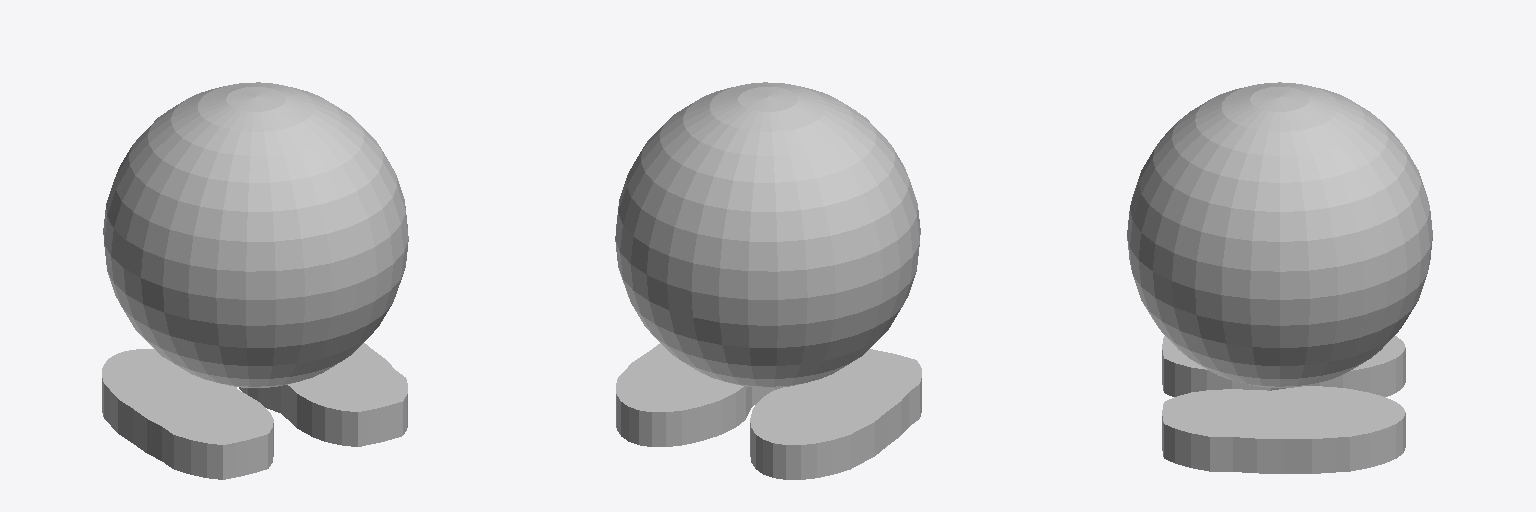
The model's file is piece.obj.
3 views of the same model, side by side, from view 1: azimuth 30°, elevation 25°; view 2: azimuth 150°, elevation 25°; view 3: azimuth 270°, elevation 25° (orthographic).
Visible parts, largest first — view 1: Piece; view 2: Piece; view 3: Piece.
Part boxes in pixels (x1,y1,x2,y2): Piece: (102, 82, 408, 479); Piece: (615, 82, 921, 479); Piece: (1127, 82, 1432, 473).
Size of the model in its own units: 2 by 2.3 by 2.